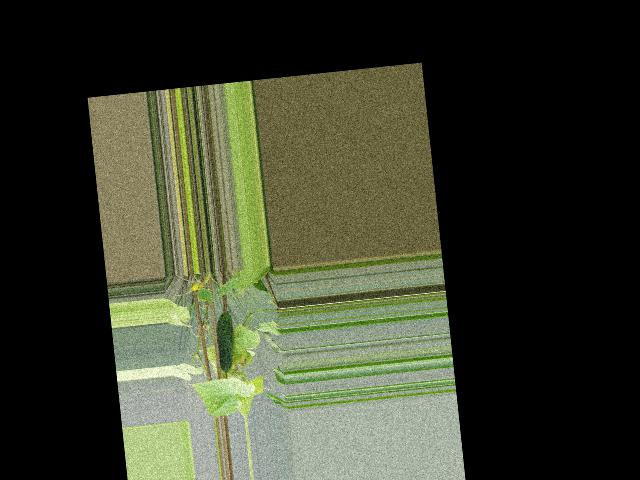cucumber: (214, 311, 237, 372)
